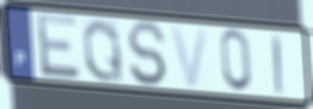0: (218, 27, 254, 95)
E: (34, 11, 82, 81)
I: (270, 32, 284, 96)
Q: (81, 17, 126, 85)
S: (125, 20, 168, 88)
V: (167, 23, 211, 90)
